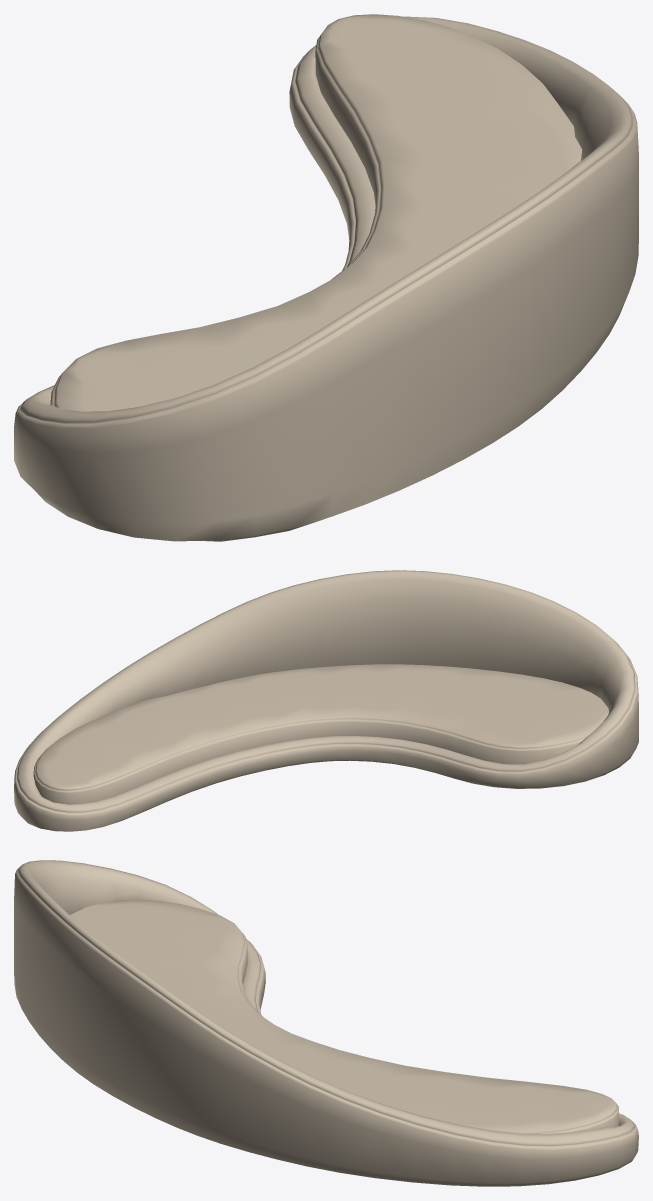
The model's file is sofa.fbx.
3 views of the same model, one above another, from view 1: azimuth 30°, elevation 25°; view 2: azimuth 150°, elevation 25°; view 3: azimuth 270°, elevation 25° (orthographic). The views are drawn at different scales.
Parts seen in each view (by area): view 1: sofa.dynamic.007; view 2: sofa.dynamic.007; view 3: sofa.dynamic.007.
Part boxes in pixels (x1=…): sofa.dynamic.007: x1=14, y1=14, x2=638, y2=541; sofa.dynamic.007: x1=14, y1=570, x2=638, y2=831; sofa.dynamic.007: x1=14, y1=860, x2=638, y2=1186.
Bounding box in the file's own units: 221 × 58.83 × 225.
